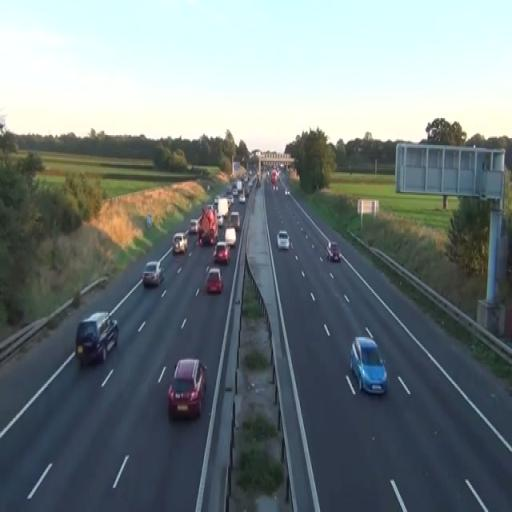Car: (166, 357, 208, 421), (75, 310, 119, 367), (349, 336, 388, 395), (142, 260, 164, 288), (204, 268, 224, 294), (212, 241, 231, 265), (173, 232, 188, 254), (326, 241, 340, 262), (276, 230, 290, 250)
Truck: (76, 310, 118, 367), (198, 205, 218, 246)
